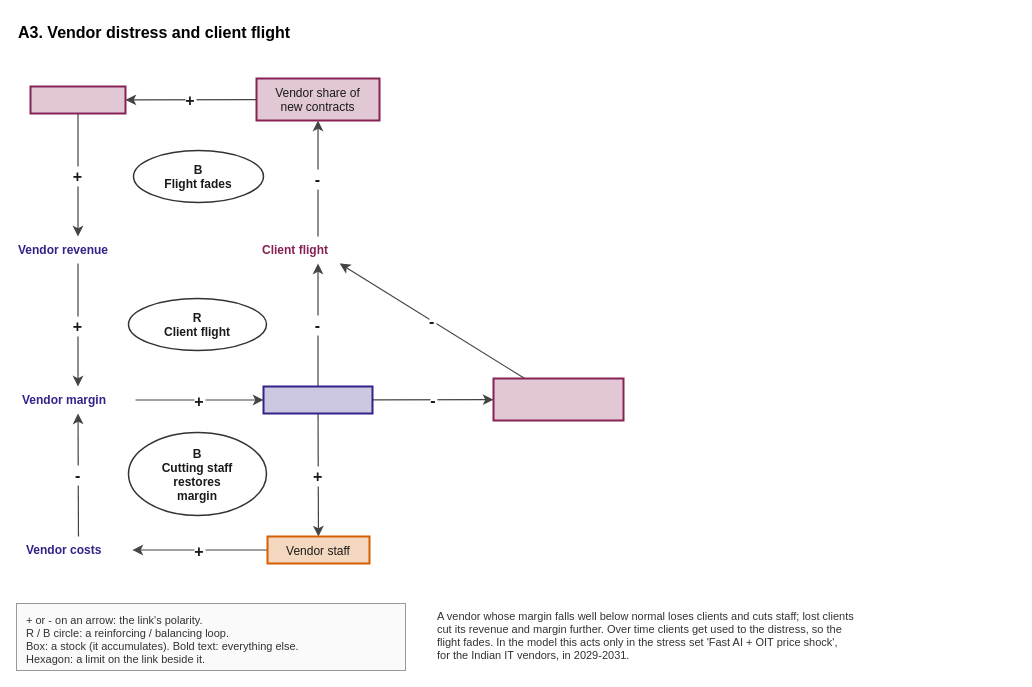
The diagram is 1032 pixels wide and 687 high, and some of its shapes have lost their labels. Here are the shapes that lost their labels. From the top down, the centre of each, then its label:
(x=77, y=99): Vendor work
(x=317, y=399): Margin signal
(x=558, y=399): Clients get used to it
